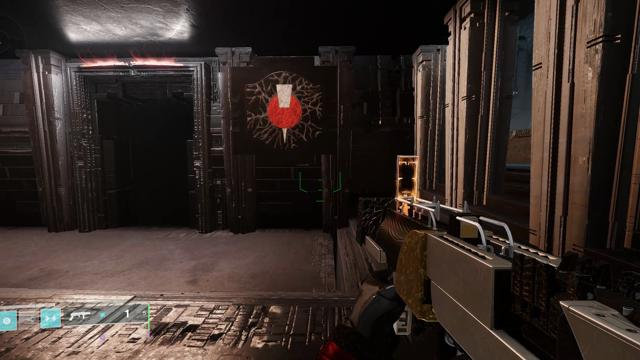kill: (246, 71, 323, 150)
